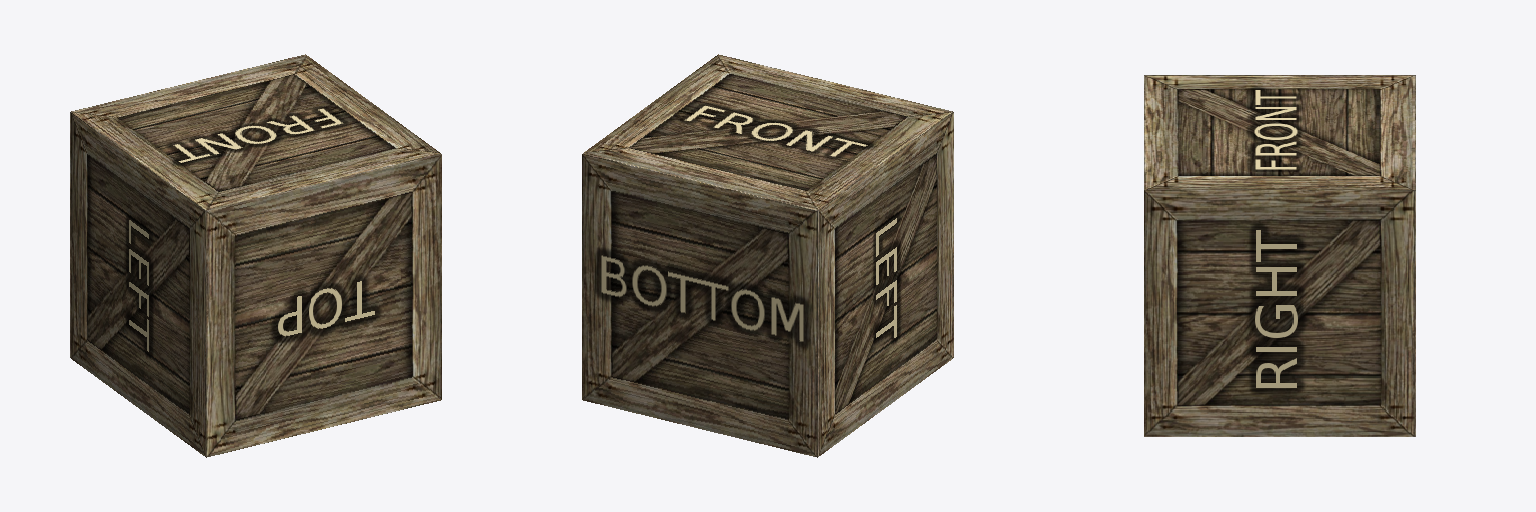
3 renders of one model, left to right at view 1: azimuth 30°, elevation 25°; view 2: azimuth 150°, elevation 25°; view 3: azimuth 270°, elevation 25°, orthographic.
Parts seen in each view (by area): view 1: Cube_Cube.001; view 2: Cube_Cube.001; view 3: Cube_Cube.001.
Boxes of the visible parts, box(x1,y1,x2,y2) form: Cube_Cube.001: box(70, 54, 441, 457); Cube_Cube.001: box(582, 54, 953, 457); Cube_Cube.001: box(1144, 75, 1415, 436).
Size of the model in its own units: 2 by 2 by 2.
Materials: 1 (1 with a texture image).